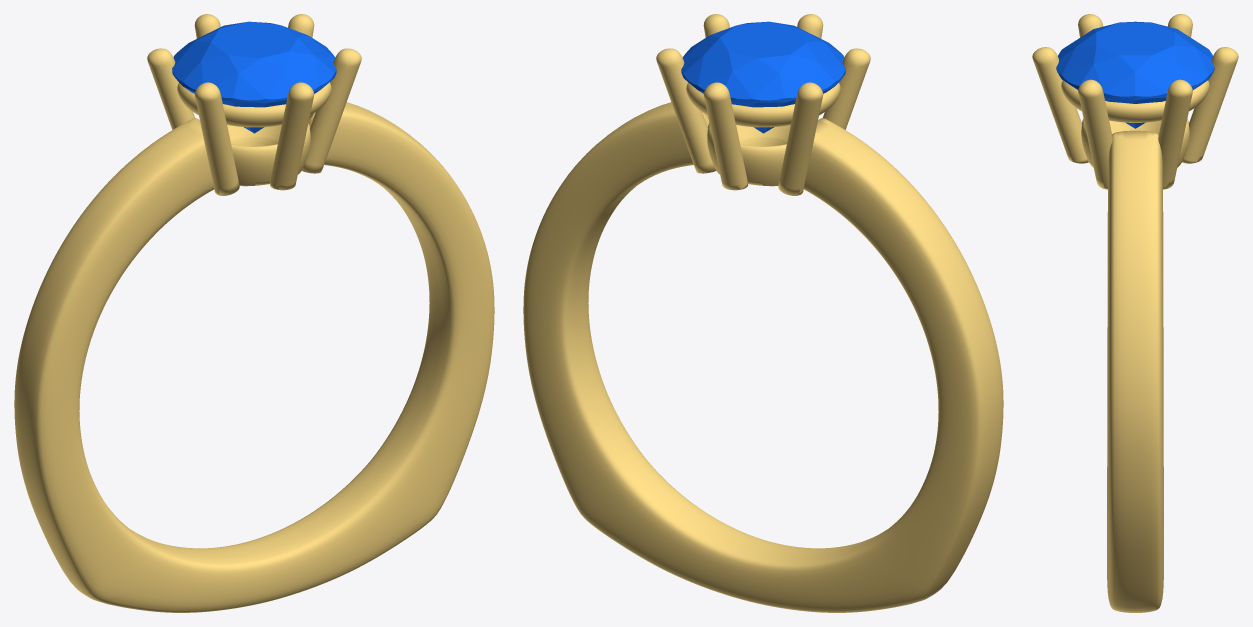
File: bluesapphire-round-yellowgold-6prong-europeanshank-nosidestones.glb
3 views of the same model, side by side, from view 1: azimuth 30°, elevation 25°; view 2: azimuth 150°, elevation 25°; view 3: azimuth 270°, elevation 25° (orthographic). The views are drawn at different scales.
Parts seen in each view (by area): view 1: metal, stone; view 2: metal, stone; view 3: metal, stone.
Boxes of the visible parts, x1,y1,x2,y2 form: metal: (14,14,494,612); stone: (172,21,336,133); metal: (523,14,1003,612); stone: (681,21,845,133); metal: (1032,14,1238,612); stone: (1056,21,1214,128).
Bounding box in the file's own units: 20.71 × 23.81 × 8.33.
